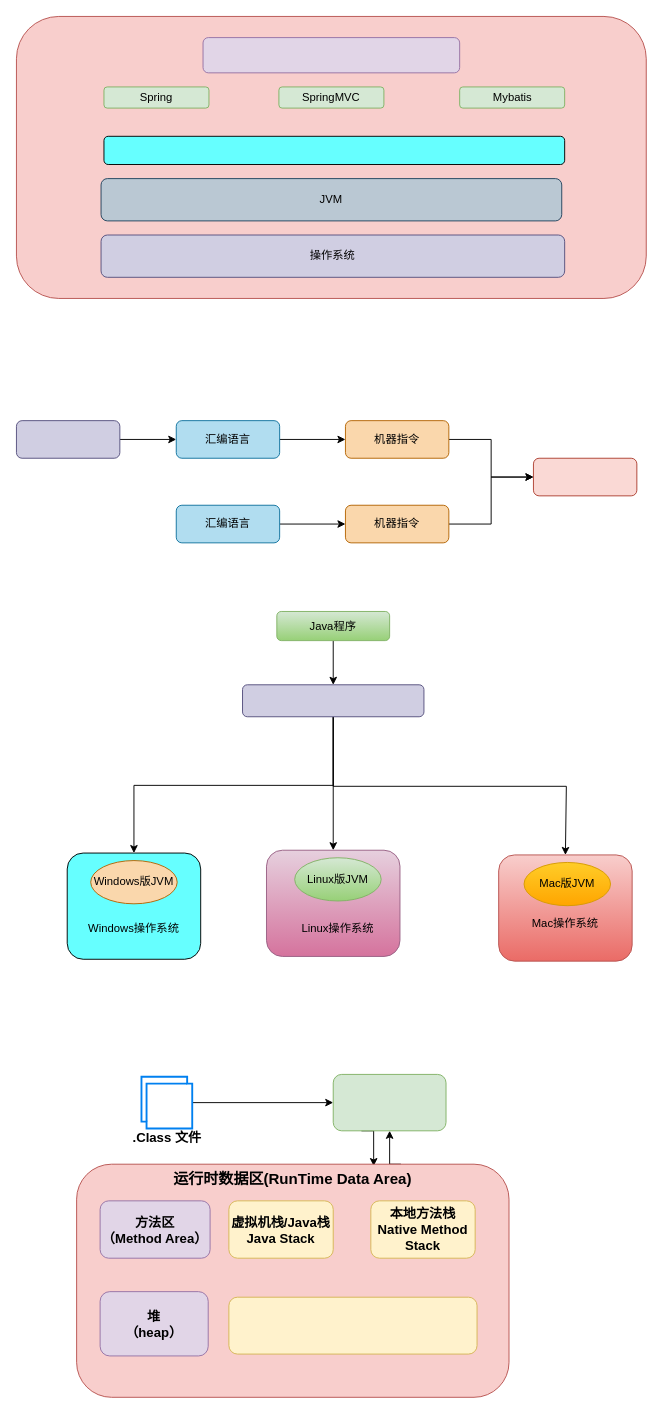
This 663x1414 diagram has some shape labels left out. Each missing label, with the box of its shape:
CPU: (533, 457, 637, 496)
Java API: (103, 135, 565, 164)
字节码文件: (242, 684, 424, 717)
应用程序: (202, 37, 460, 73)
程序计数器 Program Counter Register: (228, 1296, 477, 1354)
类加载子系统: (332, 1073, 446, 1131)
高级语言: (16, 420, 120, 458)
